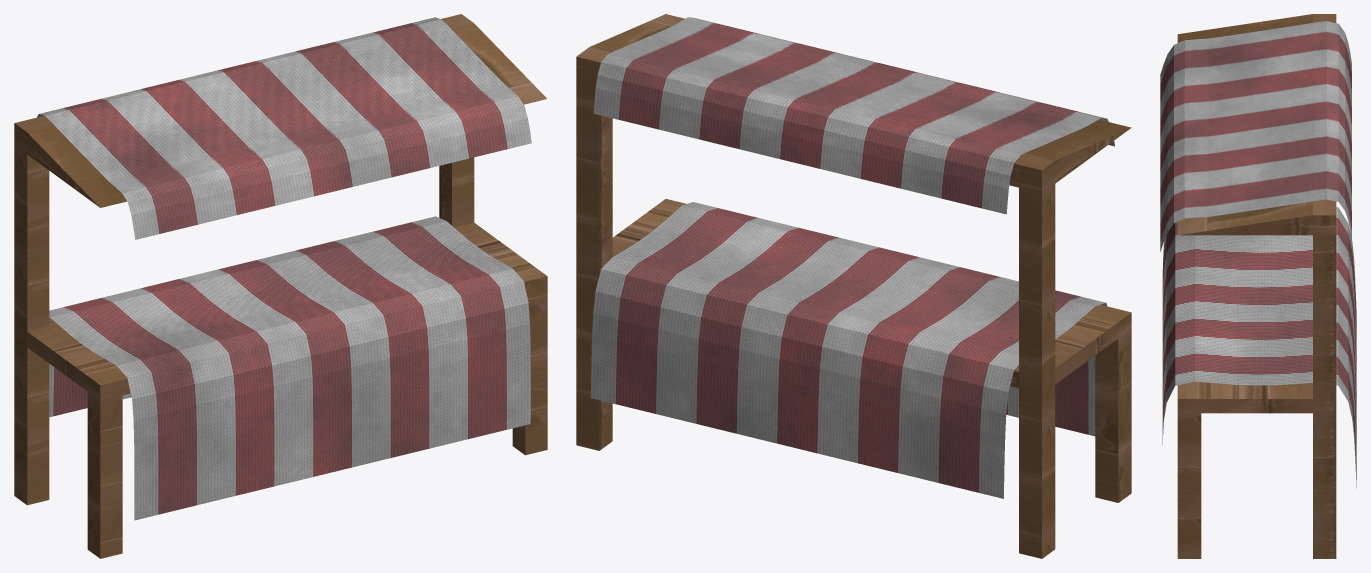
The model's file is shop.fbx.
The picture shows the model from 3 angles, left to right: view 1: azimuth 30°, elevation 25°; view 2: azimuth 150°, elevation 25°; view 3: azimuth 270°, elevation 25°; orthographic projection. The views are drawn at different scales.
Visible parts, largest first — view 1: Shop; view 2: Shop; view 3: Shop.
Boxes of the visible parts, box(x1,y1,x2,y2) form: Shop: box(14, 14, 547, 558); Shop: box(576, 14, 1131, 558); Shop: box(1160, 14, 1356, 558).
Bounding box in the file's own units: 600 × 484 × 248.
